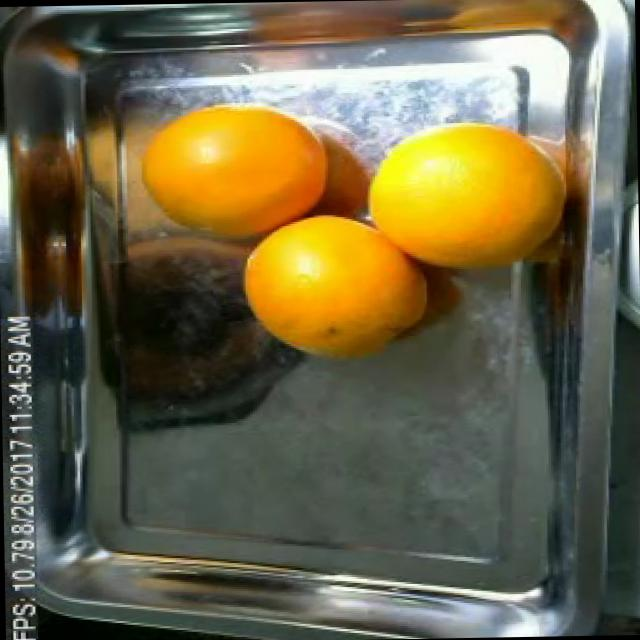Fruit: (86, 274, 300, 438), (224, 202, 410, 376)
